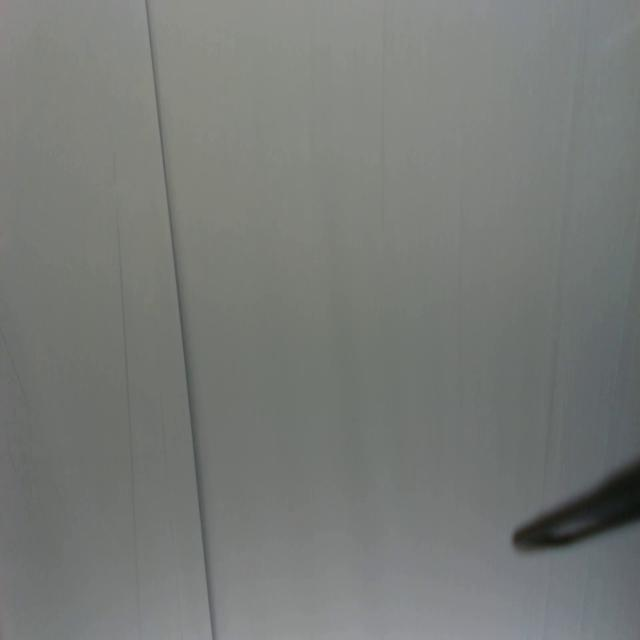crease: (144, 0, 220, 640), (114, 219, 142, 590)
